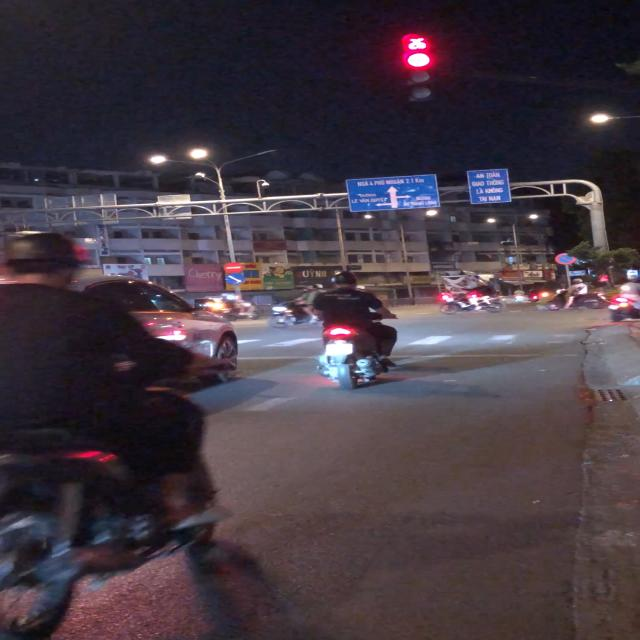Bien bao cam di nguoc chieu: (222, 262, 246, 272)
Bien bao huong phai di vong chuong ngai vat: (225, 273, 246, 285)
